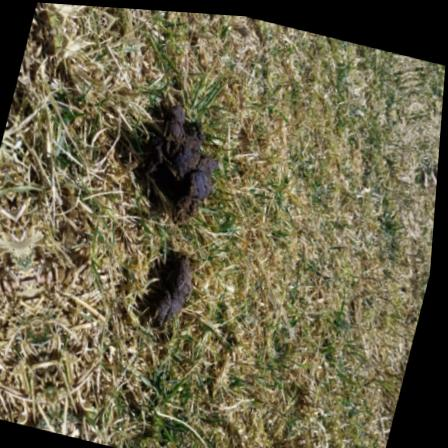dog-poop: (116, 93, 231, 221), (145, 250, 207, 326)
